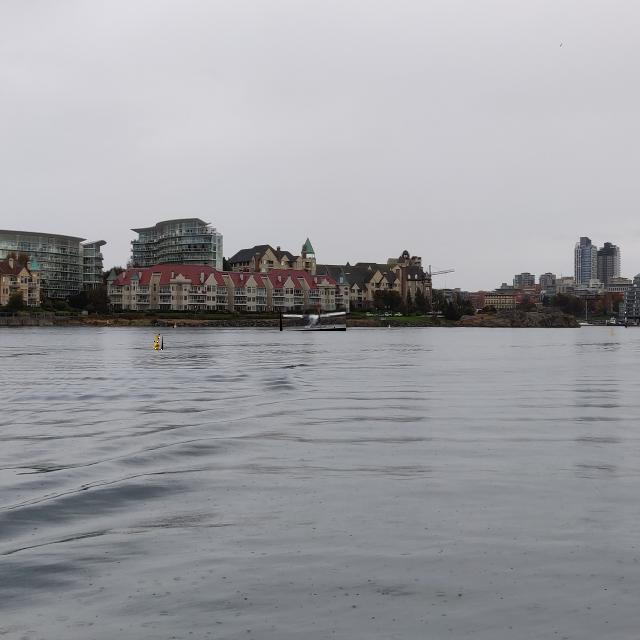aircraft: (280, 304, 346, 331)
mark: (153, 334, 163, 350), (626, 310, 630, 328), (612, 328, 616, 336), (173, 322, 177, 328)
